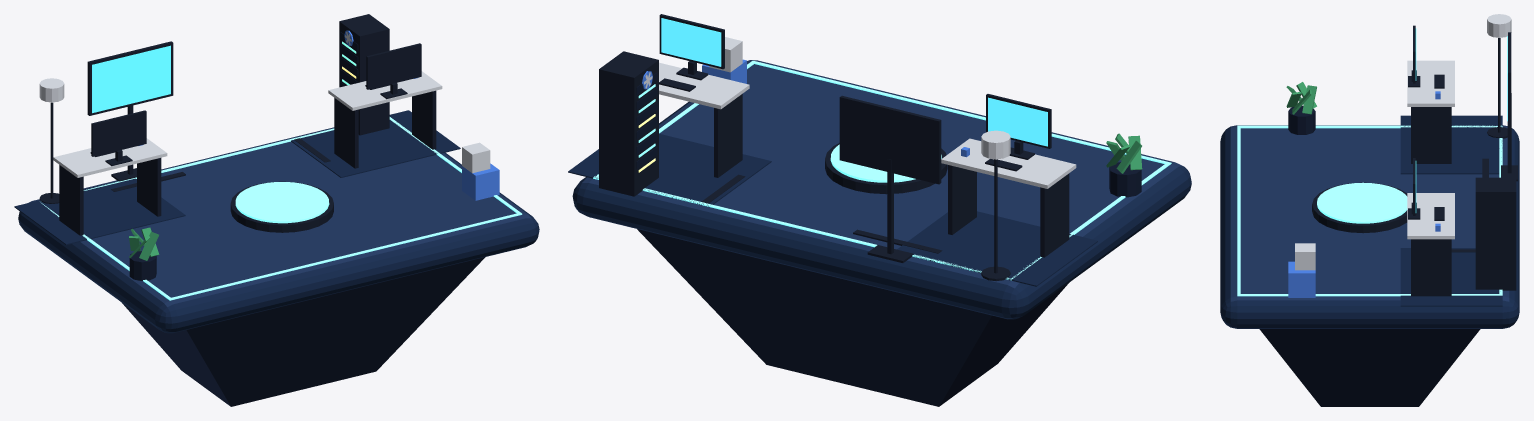
File: workspace.glb
The picture shows the model from 3 angles, left to right: view 1: azimuth 30°, elevation 25°; view 2: azimuth 150°, elevation 25°; view 3: azimuth 270°, elevation 25°; orthographic projection. The views are drawn at different scales.
Visible parts, largest first — view 1: Floor, Base, Mat_L, Mat_R, BoardFace, HoloRing, Rack, FloorRim, Monitor_L, Monitor_R, Desk_R, Desk_L (+10 smaller); view 2: Floor, Base, Mat_L, Rack, Board, Mat_R, FloorRim, Desk_L, ScreenFace_R, Desk_R, ScreenFace_L, DeskLeg_L_L (+10 smaller); view 3: Floor, Base, Rack, Mat_L, HoloRing, Mat_R, DeskLeg_R_R, DeskLeg_L_R, FloorRim, Desk_R, Desk_L, HoloTable (+7 smaller).
Boxes of the visible parts, box(x1,y1,x2,y2) form: Floor: box(18, 127, 539, 333); Base: box(122, 257, 485, 406); Mat_L: box(14, 178, 185, 244); Mat_R: box(291, 110, 460, 177); BoardFace: box(92, 45, 170, 113); HoloRing: box(235, 182, 329, 223); Rack: box(339, 14, 389, 135); FloorRim: box(40, 117, 522, 300); Monitor_L: box(91, 110, 146, 156); Monitor_R: box(366, 43, 421, 89); Desk_R: box(328, 71, 442, 110); Desk_L: box(53, 138, 167, 177); Floor: box(572, 60, 1191, 319); Base: box(637, 229, 1069, 406); Mat_L: box(897, 211, 1097, 286); Rack: box(599, 51, 658, 196); Board: box(839, 95, 941, 184); Mat_R: box(568, 133, 771, 206); FloorRim: box(593, 60, 1171, 280); Desk_L: box(941, 138, 1076, 188); ScreenFace_R: box(661, 18, 721, 66); Desk_R: box(659, 62, 749, 109); ScreenFace_L: box(988, 97, 1047, 146); DeskLeg_L_L: box(1040, 173, 1069, 257); Floor: box(1220, 125, 1519, 328); Base: box(1259, 329, 1480, 406); Rack: box(1475, 177, 1516, 290); Mat_L: box(1400, 115, 1502, 174); HoloRing: box(1317, 182, 1407, 223); Mat_R: box(1400, 248, 1502, 306); DeskLeg_R_R: box(1411, 239, 1451, 296); DeskLeg_L_R: box(1411, 107, 1451, 163); FloorRim: box(1237, 125, 1502, 296); Desk_R: box(1407, 193, 1454, 239); Desk_L: box(1407, 60, 1454, 106); HoloTable: box(1312, 182, 1407, 233).
Size of the model in its own units: 6.6 by 4.57 by 4.4.
